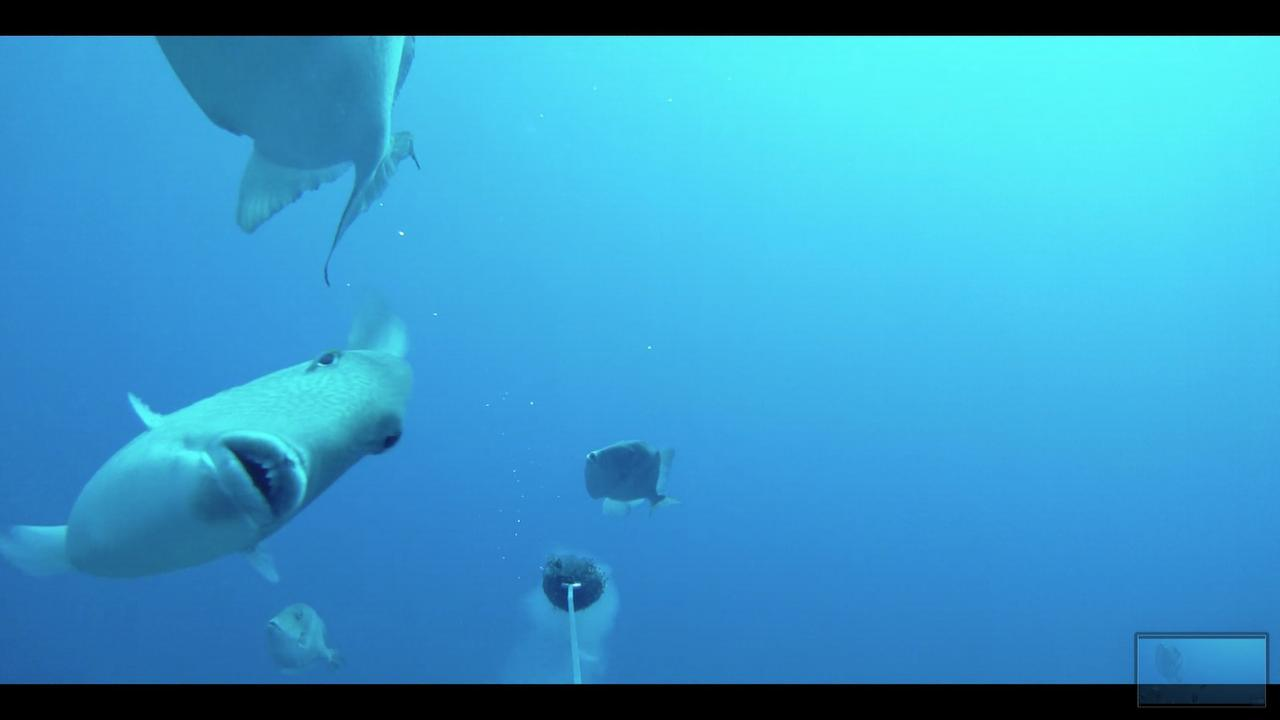balistes: (6, 306, 430, 586), (138, 32, 430, 292), (569, 437, 696, 525), (260, 601, 350, 674)
